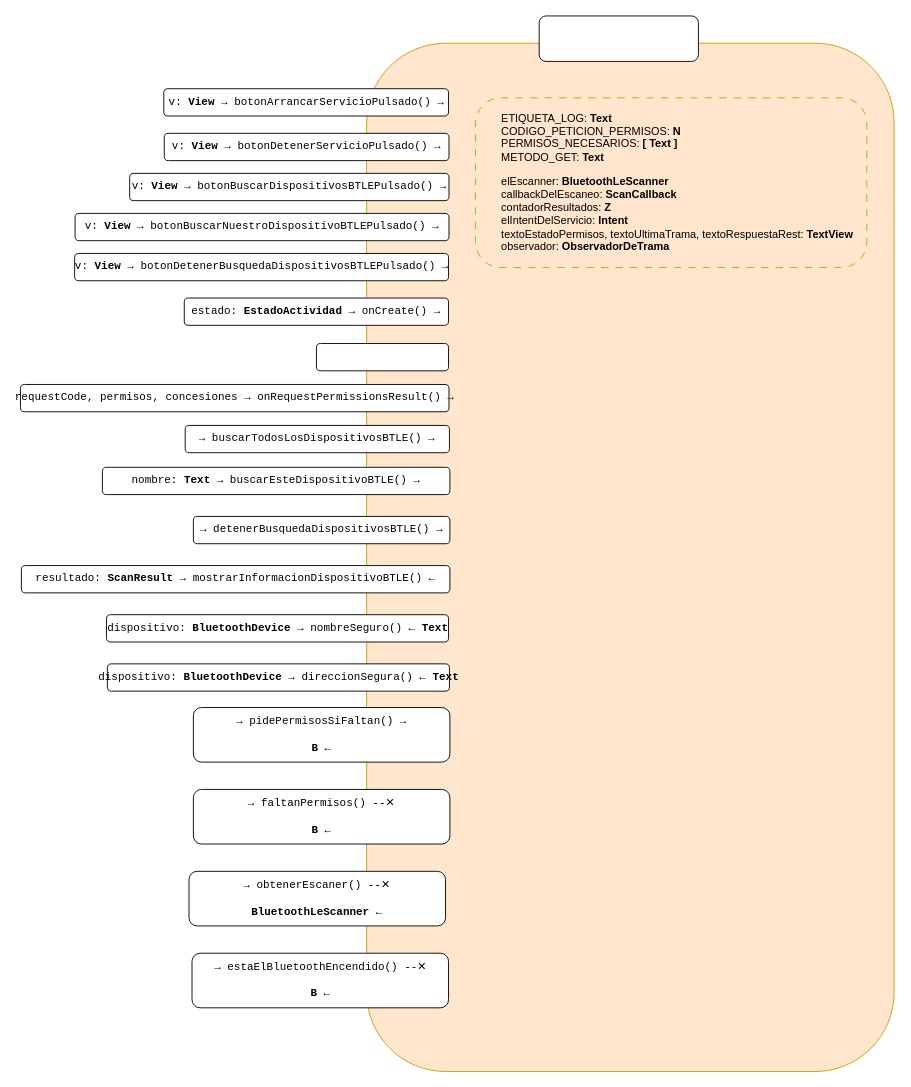
This 911x1087 diagram has some shape labels left out. The shapes that lost their labels are listed below. From the top down, each one's box as (x1, y1, x2, y2) in pixels, then its label:
(538, 15, 698, 61): MainActivity
(315, 343, 449, 371): → onDestroy() →
